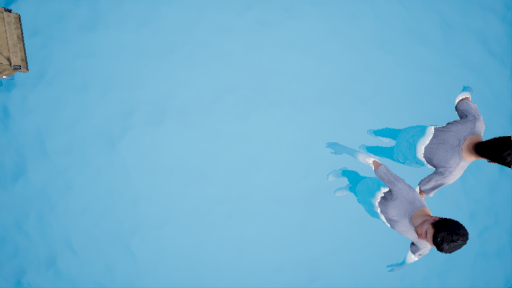person: (333, 157, 470, 281), (370, 88, 512, 197)
